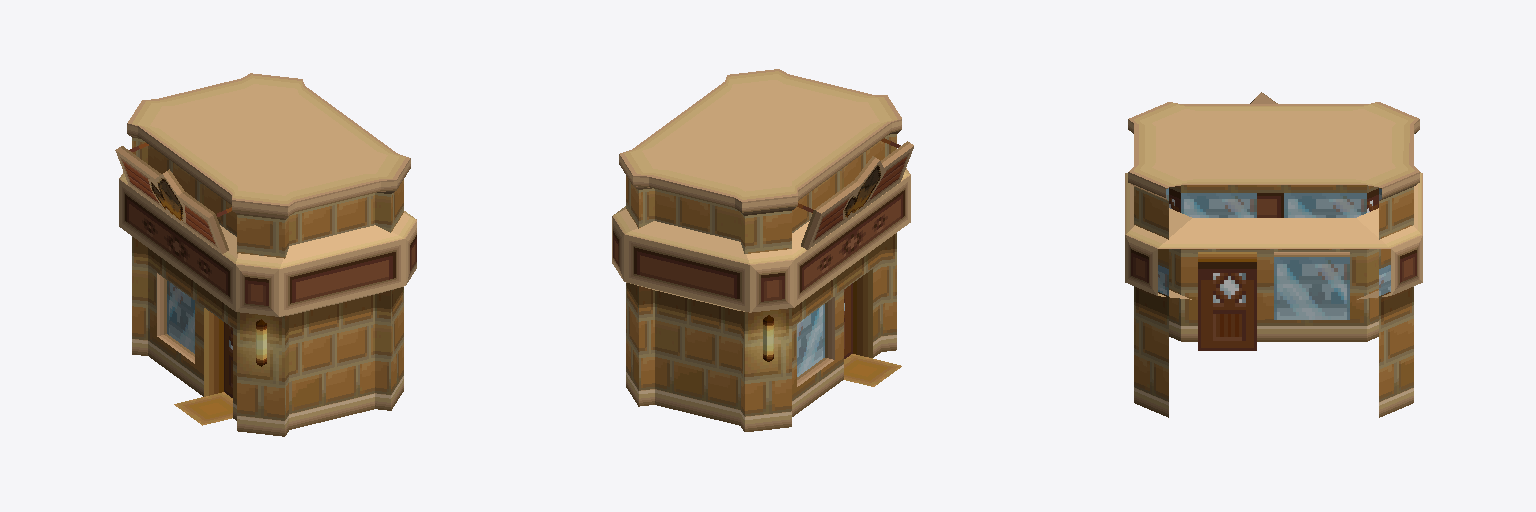
3 renders of one model, left to right at view 1: azimuth 30°, elevation 25°; view 2: azimuth 150°, elevation 25°; view 3: azimuth 270°, elevation 25°, orthographic.
Parts seen in each view (by area): view 1: polygon0, polygon2; view 2: polygon0, polygon2; view 3: polygon0.
Part boxes in pixels (x1,y1,x2,y2): polygon0: (115,73,416,436); polygon2: (148,174,185,222); polygon0: (612,69,913,431); polygon2: (843,161,885,218); polygon0: (1125,92,1422,417).
Bounding box in the file's own units: 5.09 × 5.53 × 6.75.
Materials: 3 (3 with a texture image).